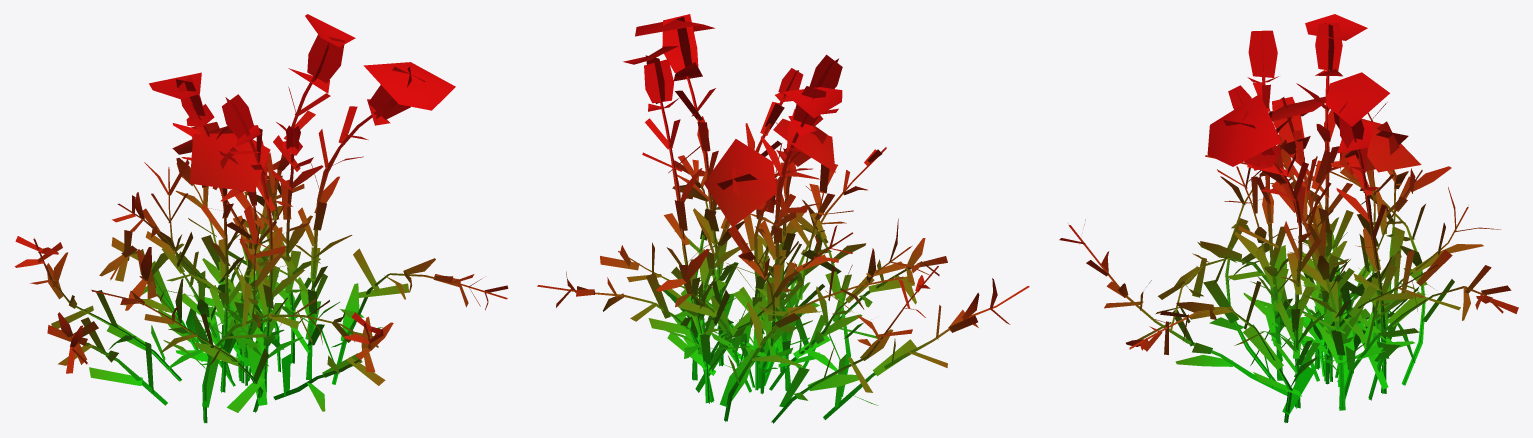
The model's file is Var1_LOD3.fbx.
The picture shows the model from 3 angles, left to right: view 1: azimuth 30°, elevation 25°; view 2: azimuth 150°, elevation 25°; view 3: azimuth 270°, elevation 25°; orthographic projection. The views are drawn at different scales.
Visible parts, largest first — view 1: _zm8u_Var1_LOD3; view 2: _zm8u_Var1_LOD3; view 3: _zm8u_Var1_LOD3.
Part boxes in pixels (x1,y1,x2,y2): _zm8u_Var1_LOD3: (14, 14, 508, 423); _zm8u_Var1_LOD3: (537, 14, 1029, 423); _zm8u_Var1_LOD3: (1059, 14, 1518, 422).
Size of the model in its own units: 31.93 by 26.93 by 31.22.
